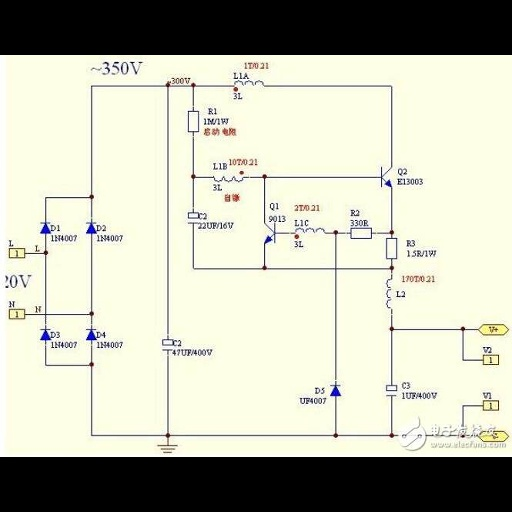firstdiode: (330, 382, 344, 401), (37, 327, 51, 343), (38, 218, 50, 236), (84, 327, 97, 343), (84, 220, 97, 235)
firstresistance: (186, 109, 201, 137), (347, 228, 377, 241), (384, 236, 399, 262)
gnd: (154, 444, 183, 455)
inductor: (211, 173, 249, 183), (293, 226, 329, 235), (385, 275, 393, 311), (230, 80, 270, 87)
npn: (259, 221, 282, 249), (374, 163, 395, 191)
